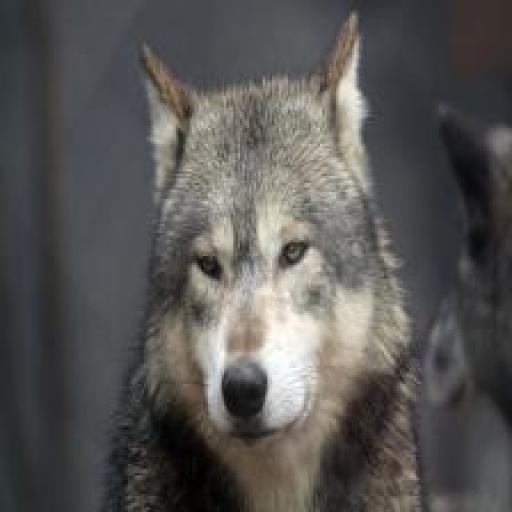wolf: (103, 9, 426, 512), (418, 110, 511, 436)
